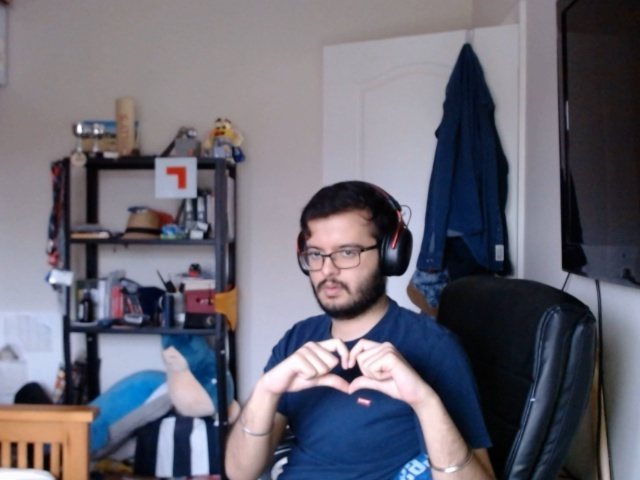Heart: (300, 333, 395, 398)
